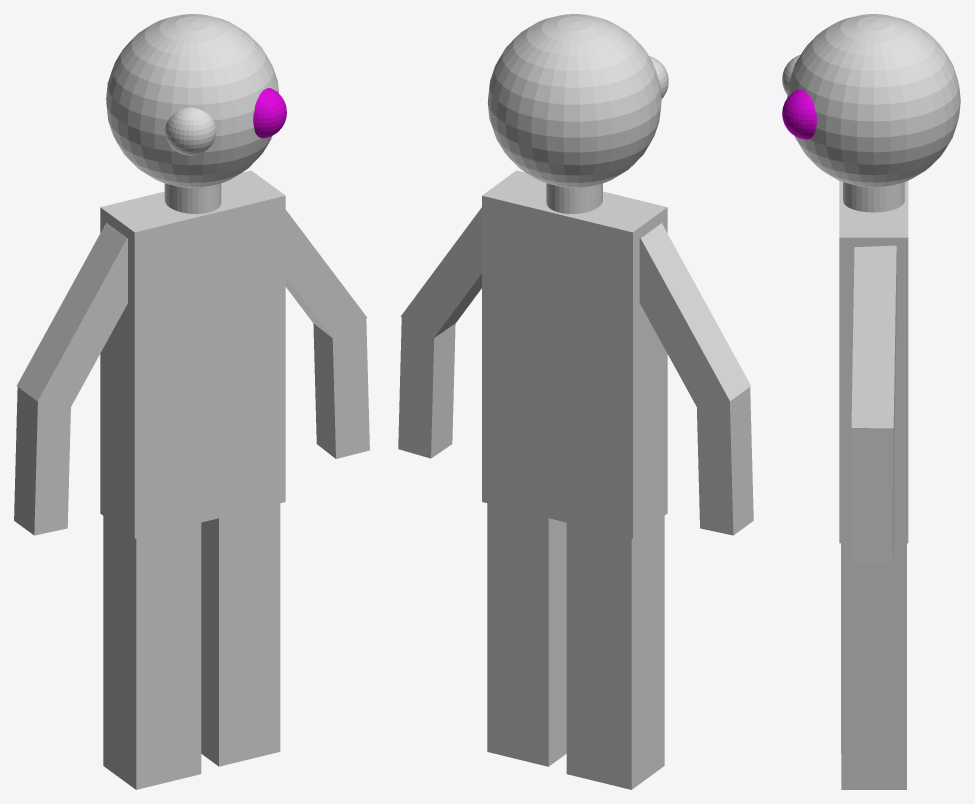
3 renders of one model, left to right at view 1: azimuth 30°, elevation 25°; view 2: azimuth 150°, elevation 25°; view 3: azimuth 270°, elevation 25°, orthographic.
Visible parts, largest first — view 1: Cube, Cube.001, Sphere, Cube.002, Cube.003, Cube.004, Cube.006, Cube.005, Sphere.001, Cylinder, Sphere.002; view 2: Cube, Cube.001, Sphere, Cube.002, Cube.003, Cube.004, Cube.006, Cube.005, Cylinder; view 3: Sphere, Cube.002, Cube, Cube.005, Cube.006, Cylinder, Sphere.002.
Part boxes in pixels (<box>): Cube: <box>100,170,285,538</box>; Cube.001: <box>103,516,201,789</box>; Sphere: <box>106,14,278,187</box>; Cube.002: <box>201,503,280,766</box>; Cube.003: <box>17,223,127,414</box>; Cube.004: <box>14,387,70,535</box>; Cube.006: <box>313,319,369,458</box>; Cube.005: <box>285,210,367,344</box>; Sphere.001: <box>165,107,216,155</box>; Cylinder: <box>164,183,221,213</box>; Sphere.002: <box>253,88,286,138</box>; Cube: <box>482,170,667,538</box>; Cube.001: <box>566,516,664,789</box>; Sphere: <box>487,14,661,187</box>; Cube.002: <box>487,503,566,766</box>; Cube.003: <box>639,223,750,414</box>; Cube.004: <box>697,387,753,535</box>; Cube.006: <box>398,318,455,458</box>; Cube.005: <box>401,207,481,343</box>; Cylinder: <box>546,183,602,213</box>; Sphere: <box>787,14,960,187</box>; Cube.002: <box>841,543,906,789</box>; Cube: <box>839,181,908,543</box>; Cube.005: <box>851,245,896,434</box>; Cube.006: <box>852,428,893,563</box>; Cylinder: <box>843,182,904,212</box>; Sphere.002: <box>782,89,816,139</box>.
Bounding box in the file's own units: 4.45 × 9.34 × 2.06.
